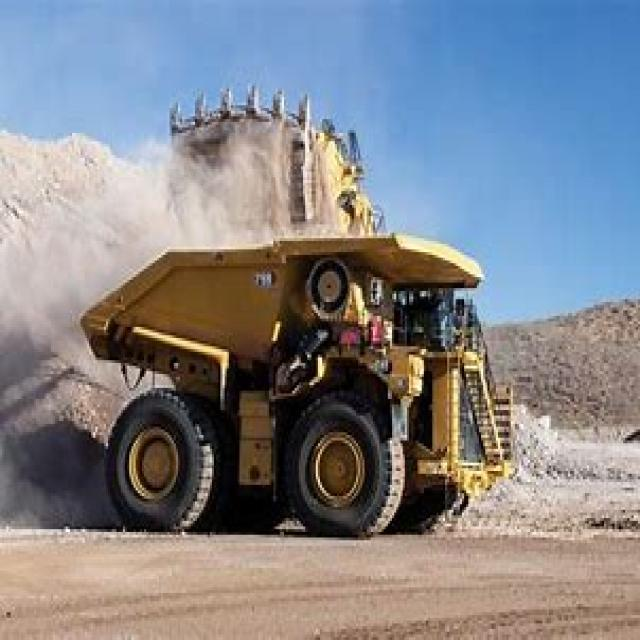dump_truck: (82, 230, 510, 540)
